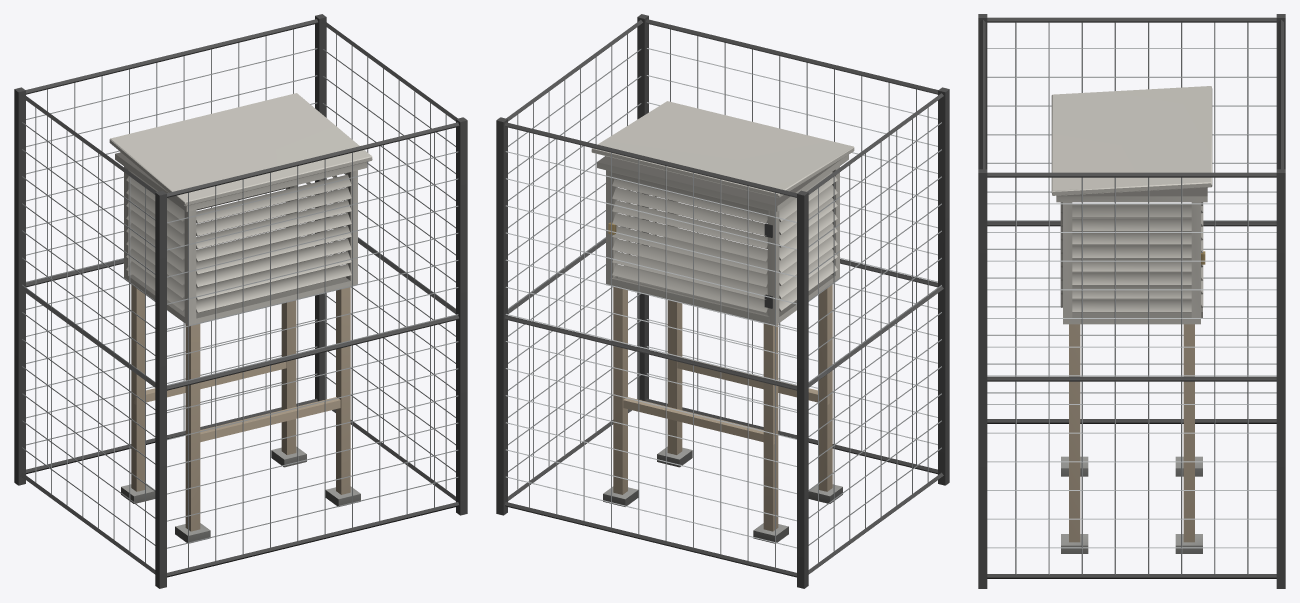
The model's file is obs_screen.glb.
The picture shows the model from 3 angles, left to right: view 1: azimuth 30°, elevation 25°; view 2: azimuth 150°, elevation 25°; view 3: azimuth 270°, elevation 25°; orthographic projection. The views are drawn at different scales.
Visible parts, largest first — view 1: static; view 2: static; view 3: static.
Boxes of the visible parts, left/top/right/bottom form: static: left=14, top=14, right=467, bottom=588; static: left=496, top=14, right=949, bottom=588; static: left=978, top=14, right=1285, bottom=588.
Size of the model in its own units: 1.64 by 2 by 1.34.
